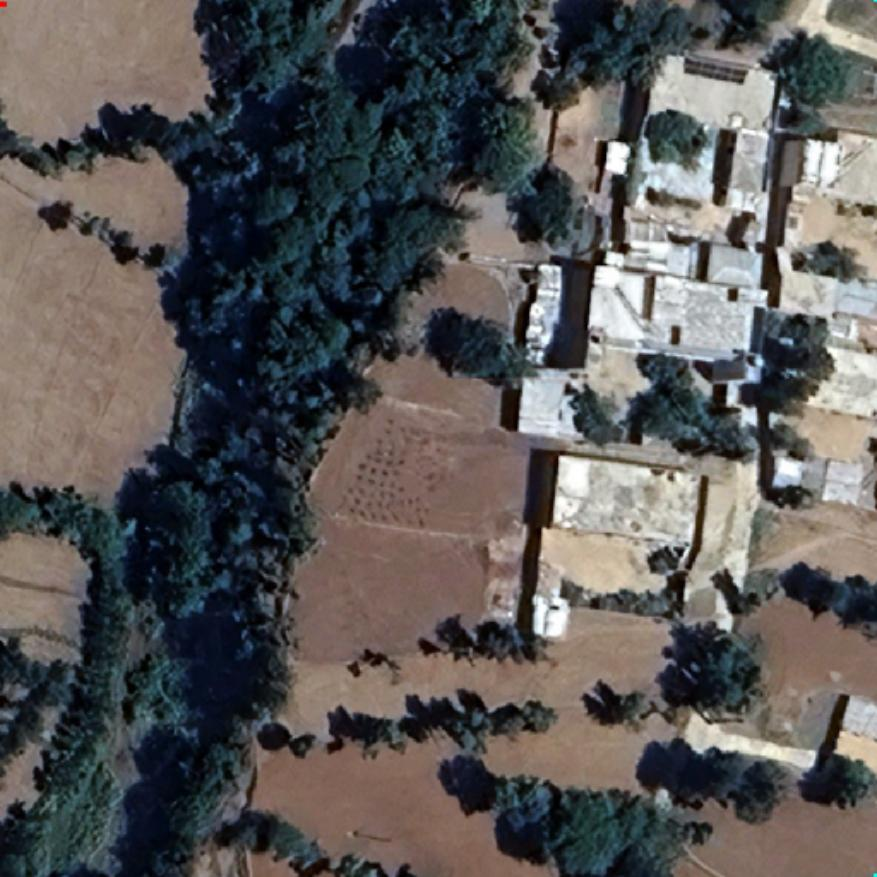Solarpanel: (680, 51, 752, 87)
